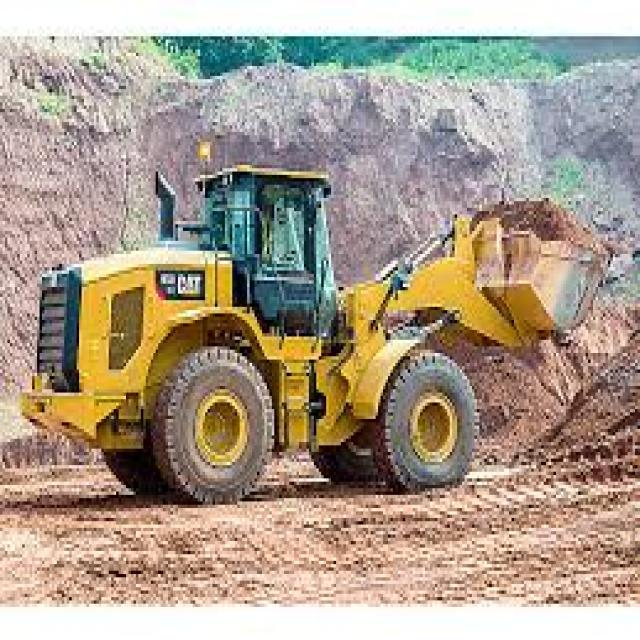buldozerpayloadergrader: (26, 158, 620, 500)
